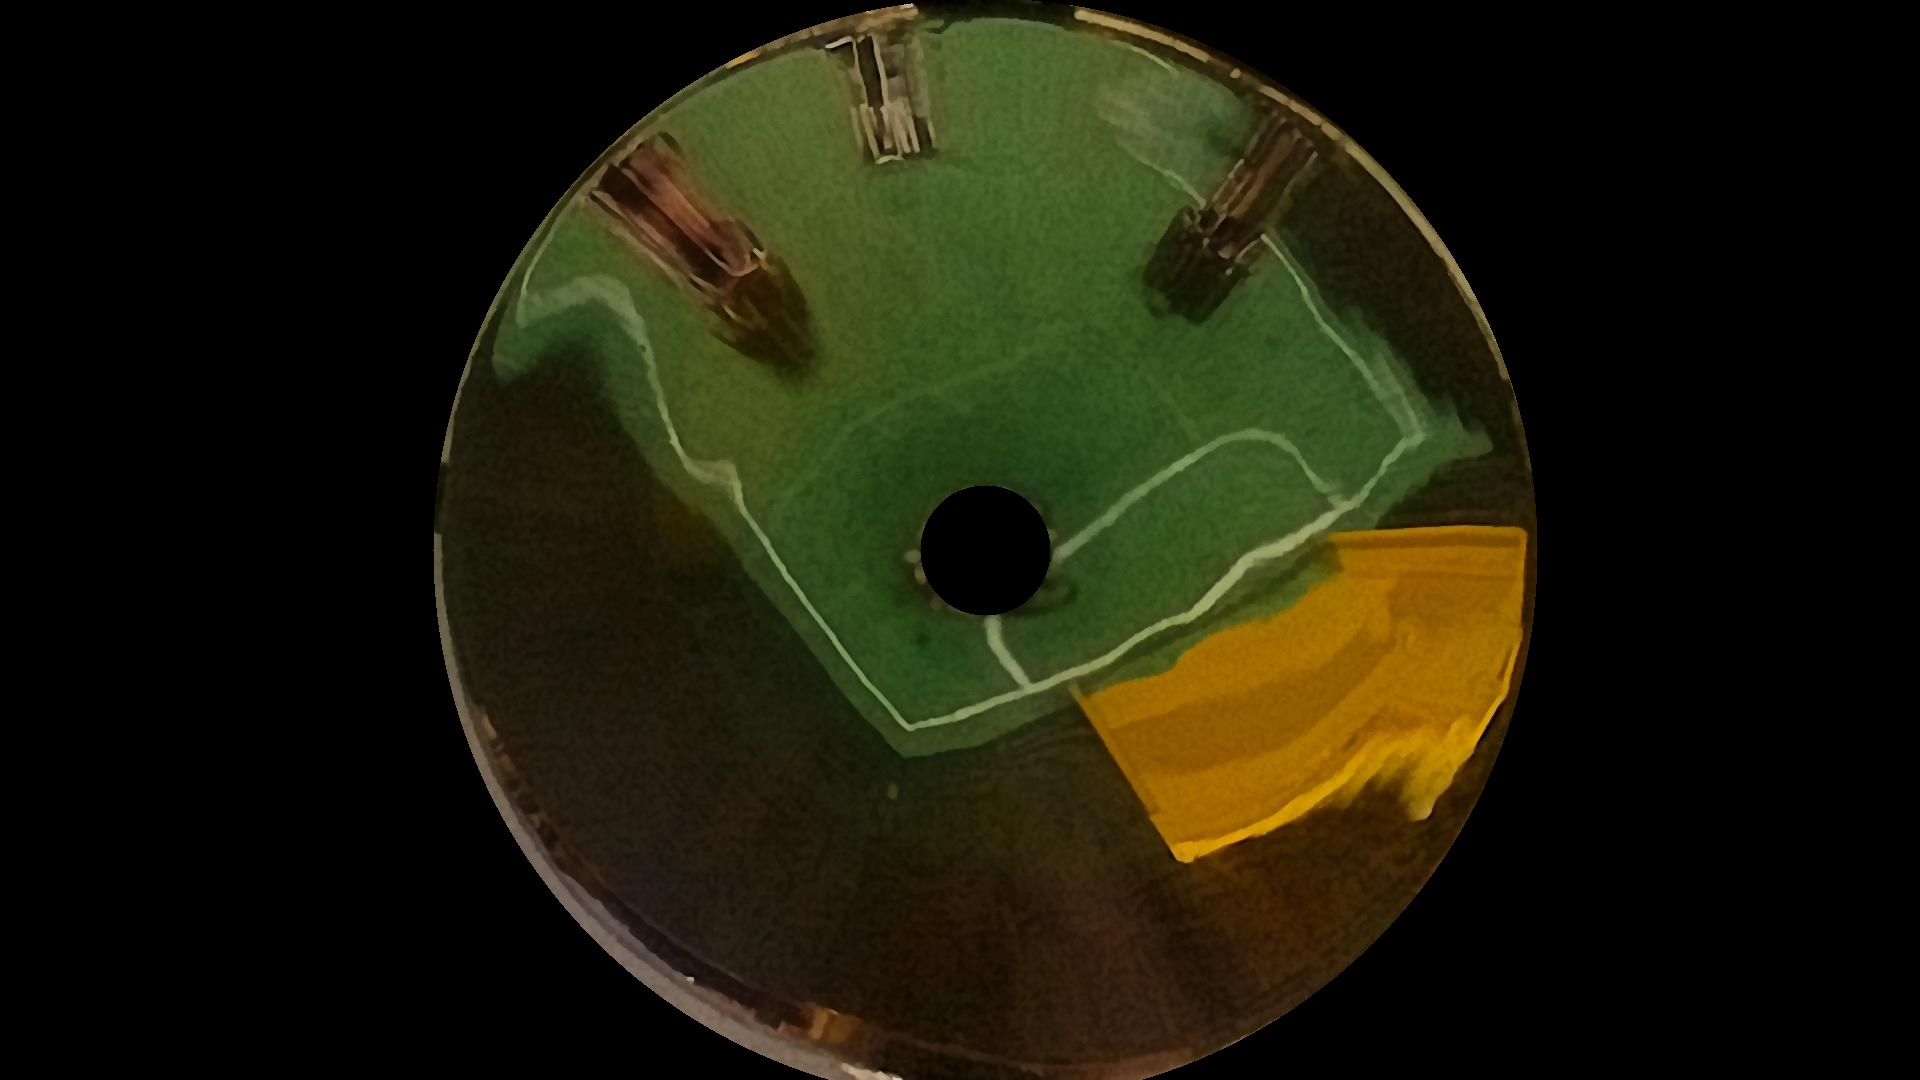robots: (605, 146, 807, 377), (1158, 90, 1319, 343), (796, 0, 986, 185)
yellow-goal: (1065, 535, 1507, 814)
